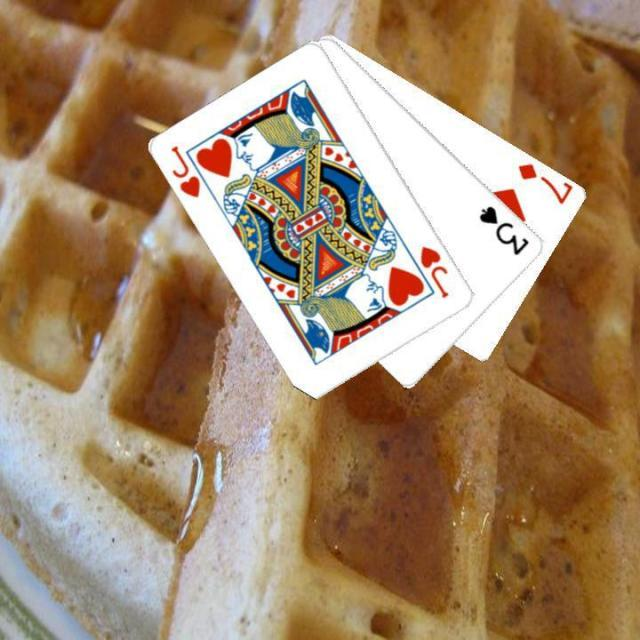3S: (476, 202, 532, 257)
7D: (514, 159, 574, 206)
JH: (416, 242, 452, 300), (167, 141, 203, 199)
